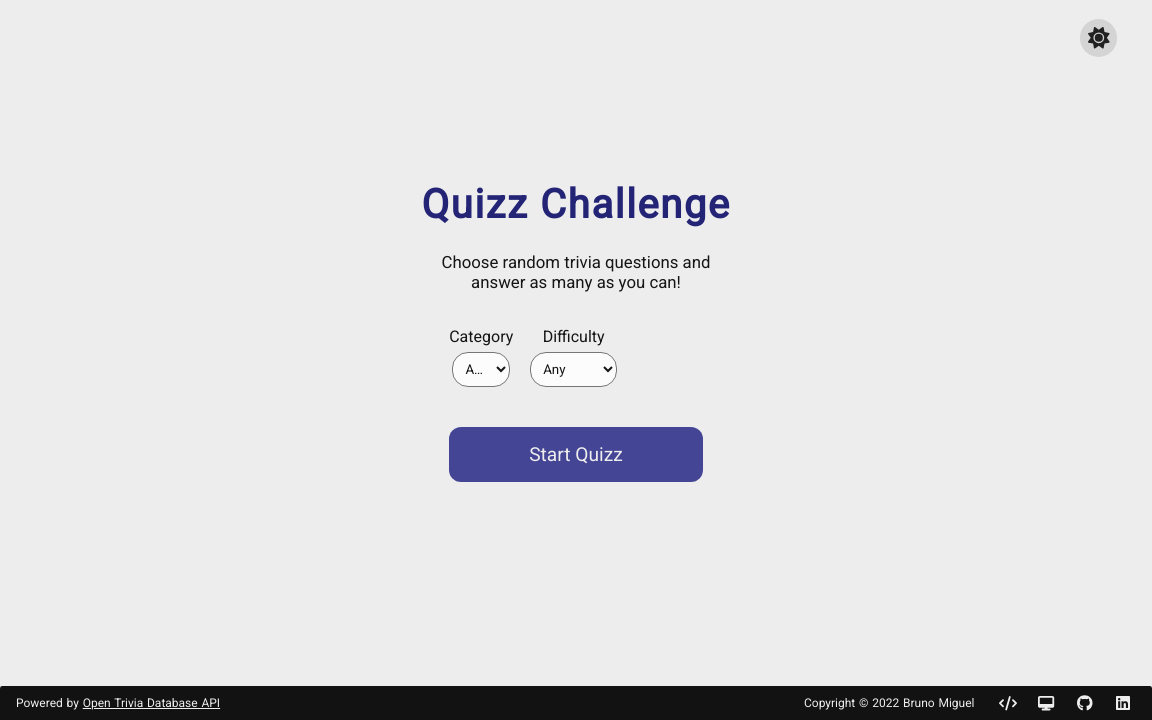
it: when "Reset Quizz" button is clicked on quizz game page, app should go back to start quizz menu page
The width and height of the screenshot is (1152, 720).
Click the button "Start Quizz": (576, 454) [449,427,703,482]
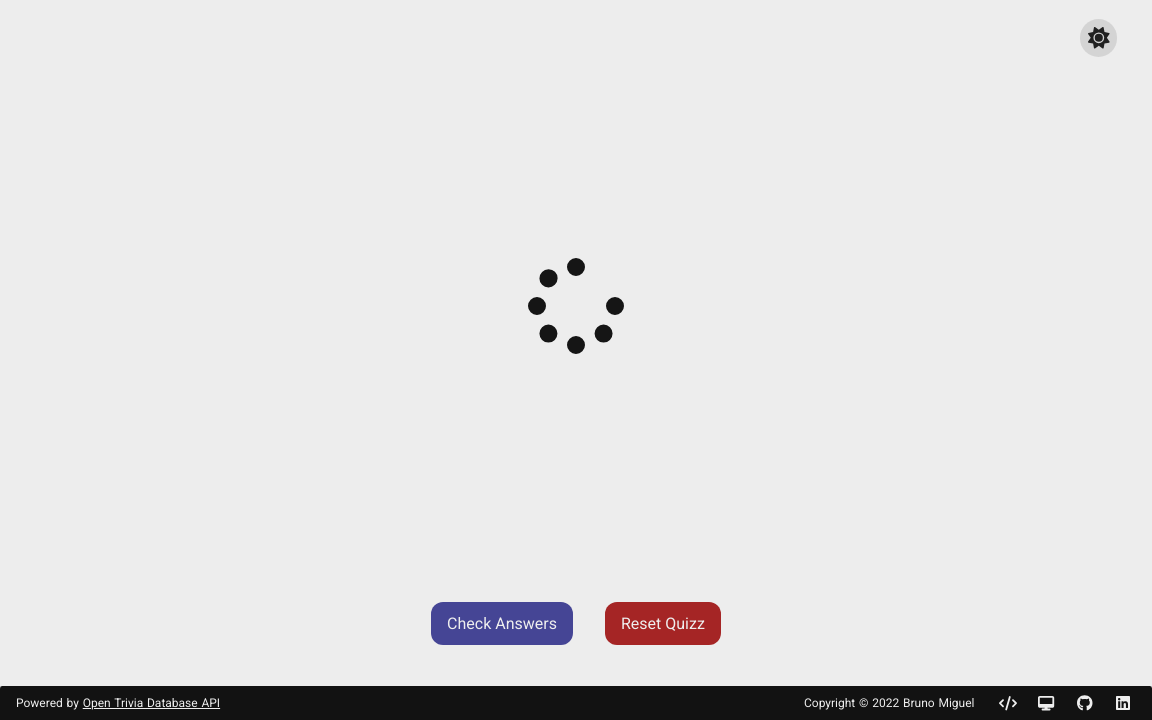
Click the button "Reset Quizz": (663, 624) [605,602,721,645]
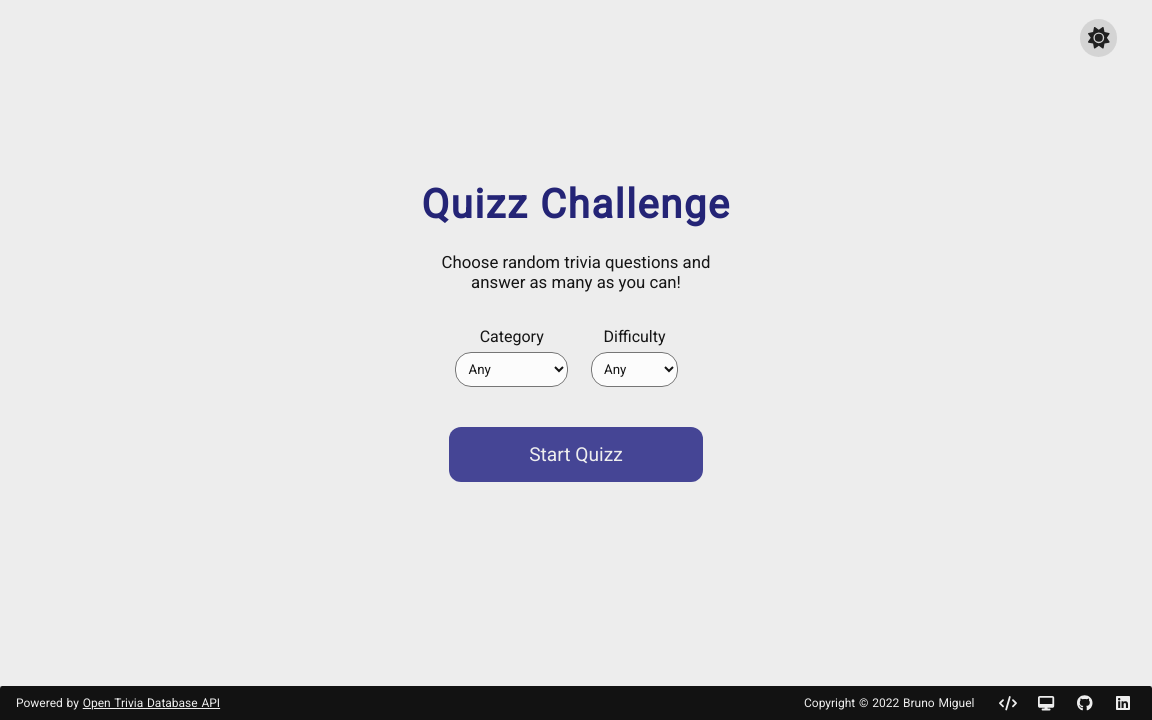
Check: the button "Reset Quizz" is gone
Check: the button "Start Quizz" is shown, box [449,427,703,482]
